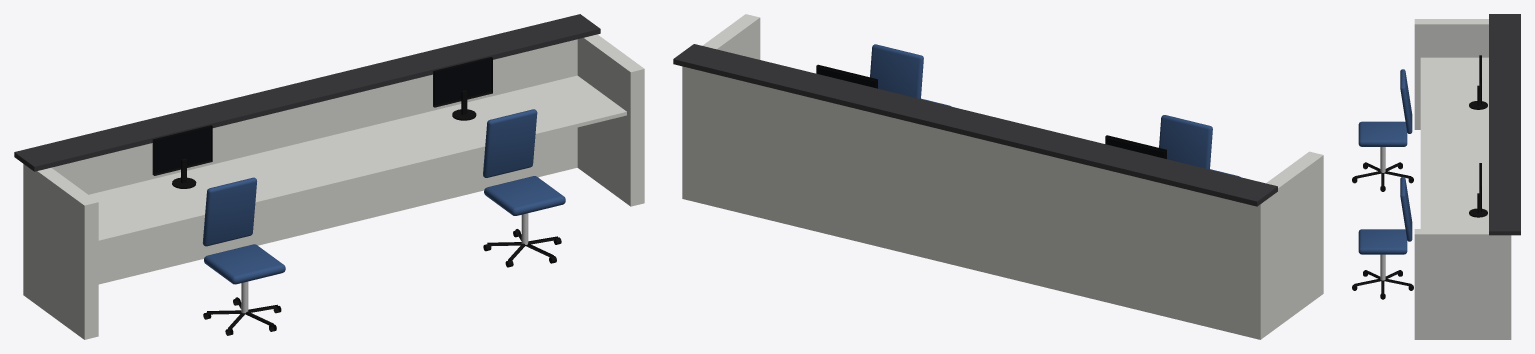
Rendered from hospital.ward.nurse_station_long.glb.
3 views of the same model, side by side, from view 1: azimuth 30°, elevation 25°; view 2: azimuth 150°, elevation 25°; view 3: azimuth 270°, elevation 25° (orthographic). The views are drawn at different scales.
Visible parts, largest first — view 1: main__laminate_white, main__worktop, main__fabric_blue, main__screen, main__plastic_black, main__steel_stainless; view 2: main__laminate_white, main__worktop, main__fabric_blue, main__screen; view 3: main__laminate_white, main__worktop, main__fabric_blue, main__plastic_black, main__steel_stainless.
Boxes of the visible parts, x1,y1,x2,y2 form: main__laminate_white: [23, 34, 644, 339]; main__worktop: [14, 14, 600, 171]; main__fabric_blue: [202, 109, 565, 284]; main__screen: [154, 58, 490, 173]; main__plastic_black: [152, 57, 561, 335]; main__steel_stainless: [241, 213, 528, 313]; main__laminate_white: [682, 14, 1323, 339]; main__worktop: [673, 44, 1277, 206]; main__fabric_blue: [870, 44, 1240, 177]; main__screen: [817, 67, 1164, 158]; main__laminate_white: [1414, 19, 1511, 339]; main__worktop: [1489, 14, 1520, 235]; main__fabric_blue: [1358, 69, 1412, 254]; main__plastic_black: [1352, 55, 1487, 299]; main__steel_stainless: [1380, 147, 1385, 280].
Bounding box in the file's own units: 4.85 × 1.16 × 1.59.
